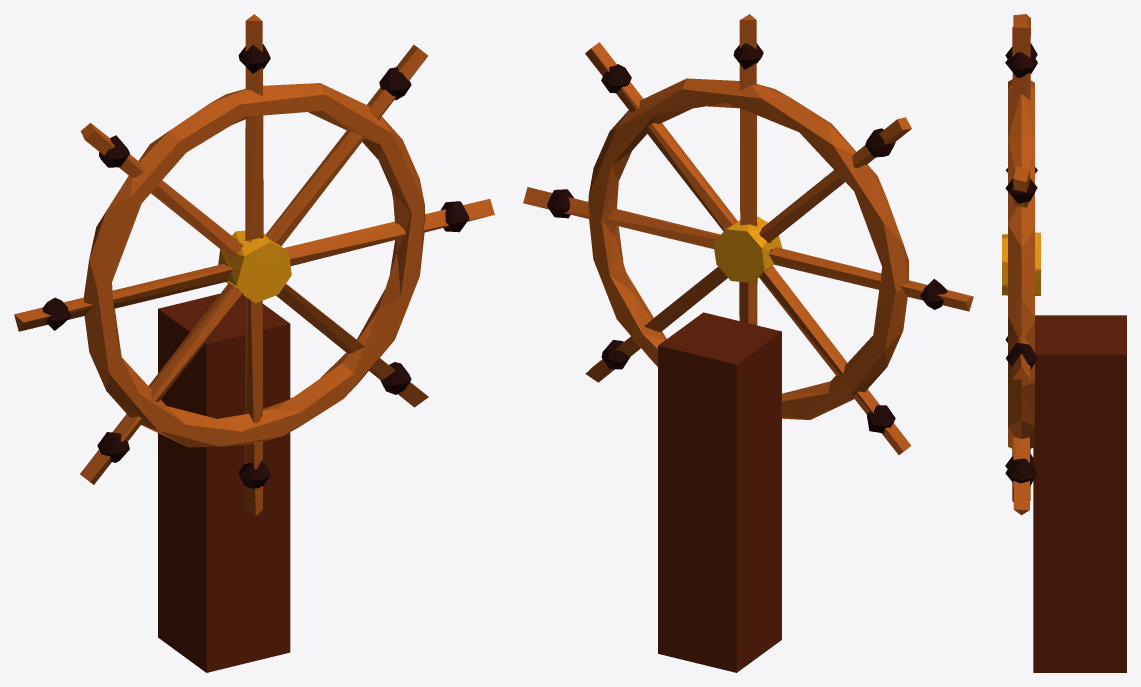
File: upgrade_ship_s_wheel_ash_rudder.three-web-toon.lod50.glb
3 renders of one model, left to right at view 1: azimuth 30°, elevation 25°; view 2: azimuth 150°, elevation 25°; view 3: azimuth 270°, elevation 25°, orthographic. The views are drawn at different scales.
Parts seen in each view (by area): view 1: upgrade_ship_s_wheel_ash_rudder_mesh_lod; view 2: upgrade_ship_s_wheel_ash_rudder_mesh_lod; view 3: upgrade_ship_s_wheel_ash_rudder_mesh_lod.
Boxes of the visible parts, x1,y1,x2,y2 form: upgrade_ship_s_wheel_ash_rudder_mesh_lod: [14, 14, 494, 672]; upgrade_ship_s_wheel_ash_rudder_mesh_lod: [523, 14, 973, 672]; upgrade_ship_s_wheel_ash_rudder_mesh_lod: [1002, 14, 1126, 672].
Size of the model in its own units: 1.35 by 1.78 by 0.32.
